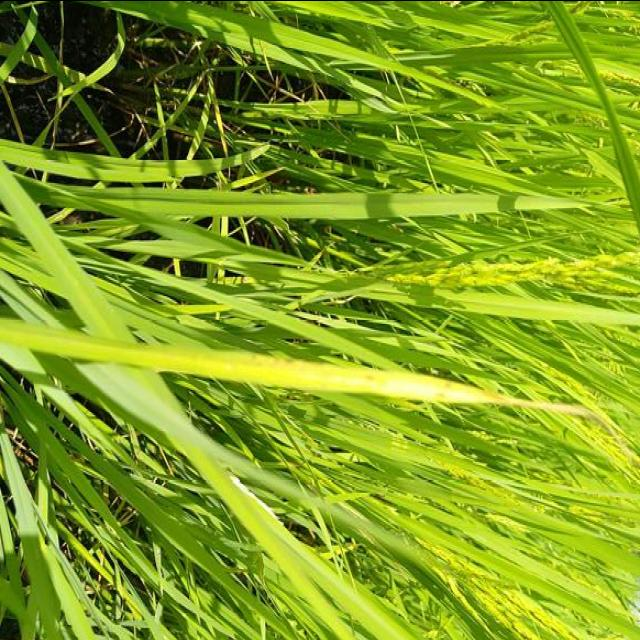Leaf Blight: (0, 310, 620, 440)
